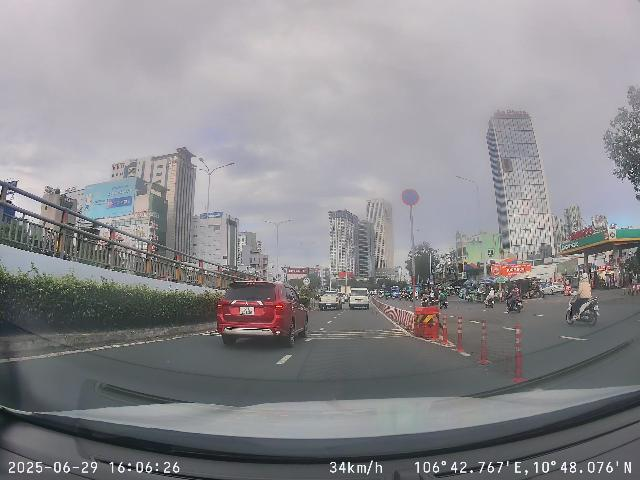130-cam-dung-va-do-xe: (401, 189, 419, 205)
134-het-han-che-toc-do-toi-da: (303, 278, 311, 285)
